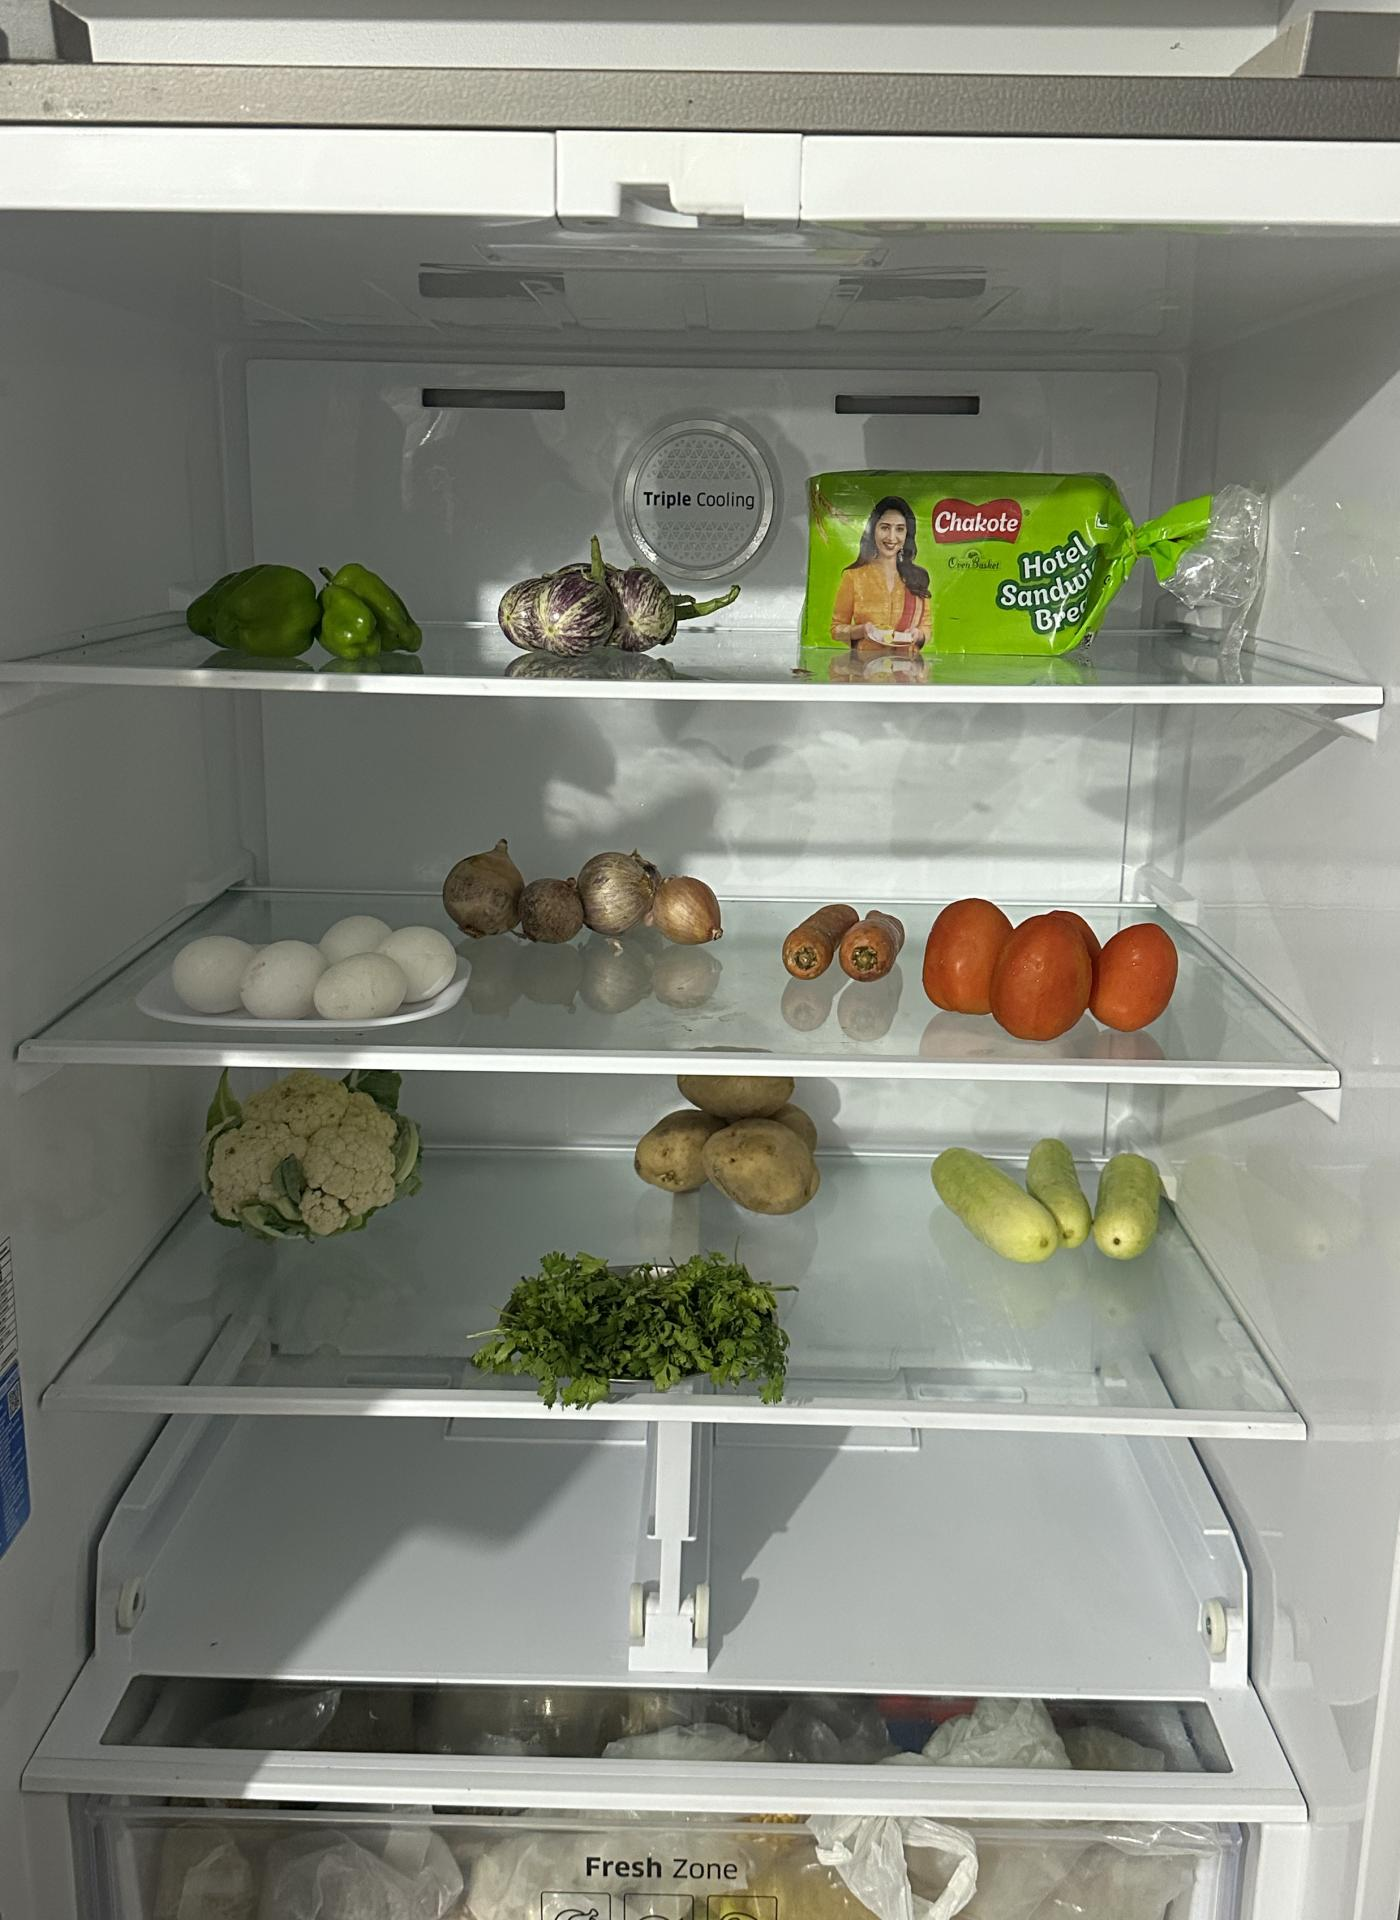bread: (799, 467, 1142, 678)
capsicum: (180, 563, 422, 668)
carrots: (781, 902, 908, 985)
cauliflower: (210, 1061, 420, 1228)
coriander: (480, 1251, 786, 1397)
cucumber: (930, 1139, 1099, 1266)
onion: (449, 844, 729, 939)
tomato: (917, 905, 1179, 1045)
